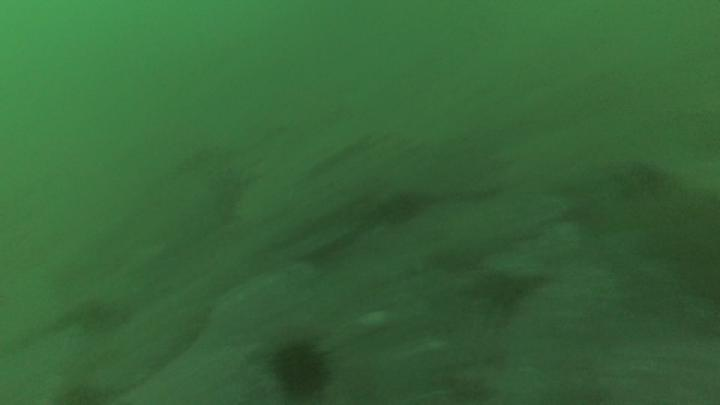echinus: (272, 347, 330, 399)
